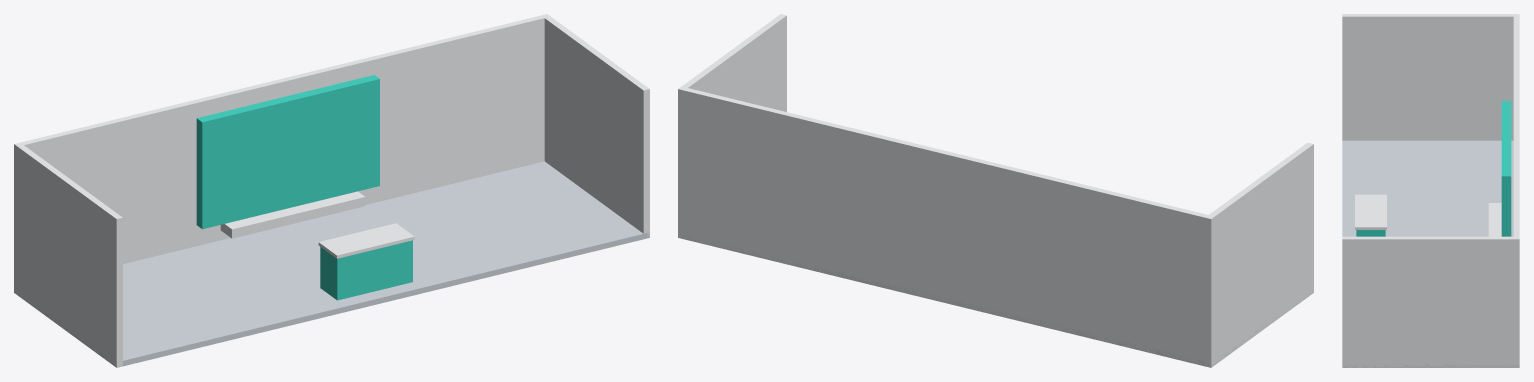
The picture shows the model from 3 angles, left to right: view 1: azimuth 30°, elevation 25°; view 2: azimuth 150°, elevation 25°; view 3: azimuth 270°, elevation 25°; orthographic projection. The views are drawn at different scales.
Visible parts, largest first — view 1: Exhibition Booth Concept; view 2: Exhibition Booth Concept; view 3: Exhibition Booth Concept.
Part boxes in pixels (box(x1,y1,x2,y2)): Exhibition Booth Concept: box(14, 14, 649, 367); Exhibition Booth Concept: box(678, 14, 1313, 367); Exhibition Booth Concept: box(1342, 14, 1519, 367).
Size of the model in its own units: 12 by 3.2 by 4.
